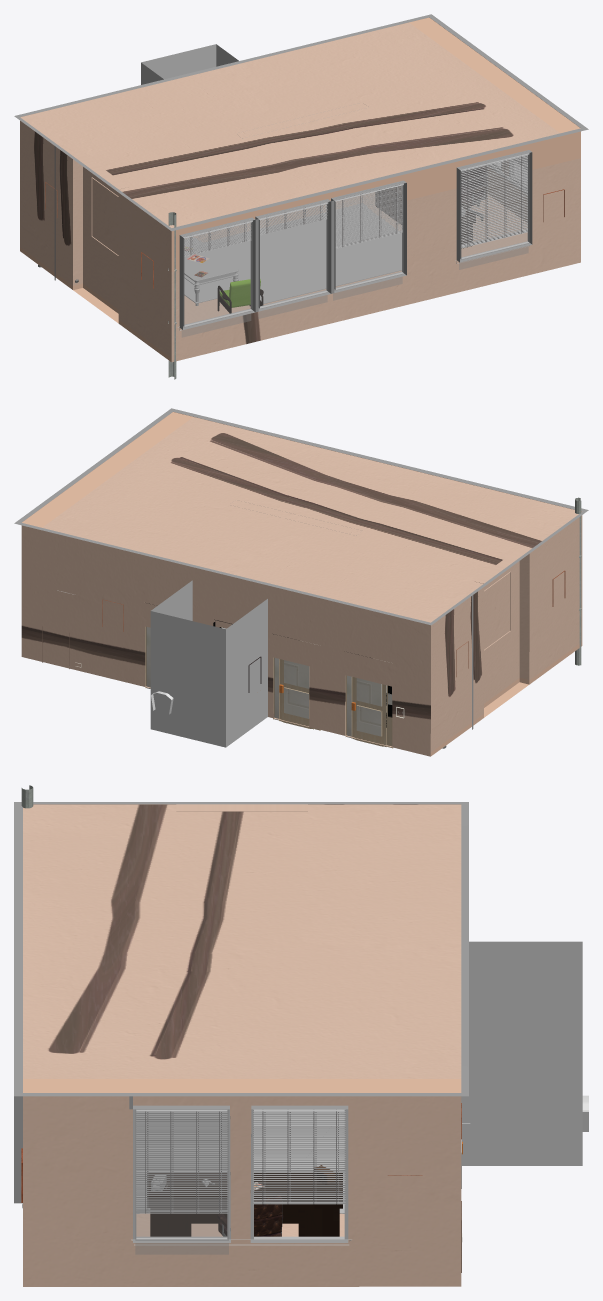
Rendered from Presidents_Room_Final.fbx.
3 renders of one model, top to bottom at view 1: azimuth 30°, elevation 25°; view 2: azimuth 150°, elevation 25°; view 3: azimuth 270°, elevation 25°, orthographic. The views are drawn at different scales.
Visible parts, largest first — view 1: roof, polySurface1, rug, pPlane6, pPlane7, pPlane13, pPlane5, pPlane14, pPlane4, walls, pPlane16, top (+9 smaller); view 2: polySurface1, roof, walls, pCube16 (×2), pipes; view 3: roof, polySurface1, walls, pPlane2, pPlane11, pPlane10, rug, desk, pPipe1, pPipe9, pCube9.
Boxes of the visible parts, bbox=[...] form: roof: bbox=[20, 17, 580, 227]; polySurface1: bbox=[14, 14, 588, 362]; rug: bbox=[205, 204, 401, 303]; pPlane6: bbox=[258, 204, 327, 318]; pPlane7: bbox=[182, 223, 250, 337]; pPlane13: bbox=[461, 151, 527, 248]; pPlane5: bbox=[333, 186, 402, 300]; pPlane14: bbox=[335, 182, 402, 248]; pPlane4: bbox=[459, 156, 528, 269]; walls: bbox=[141, 44, 238, 84]; pPlane16: bbox=[184, 219, 251, 256]; top: bbox=[184, 238, 238, 285]; polySurface1: bbox=[14, 408, 588, 756]; roof: bbox=[22, 412, 581, 622]; walls: bbox=[150, 580, 267, 747]; pCube16 (×2): bbox=[273, 634, 392, 748]; pipes: bbox=[575, 497, 581, 665]; roof: bbox=[23, 804, 461, 1092]; polySurface1: bbox=[14, 802, 468, 1286]; walls: bbox=[461, 941, 582, 1165]; pPlane2: bbox=[135, 1109, 228, 1254]; pPlane11: bbox=[136, 1109, 228, 1213]; pPlane10: bbox=[253, 1109, 345, 1204]; rug: bbox=[136, 1112, 344, 1213]; desk: bbox=[147, 1173, 342, 1236]; pPipe1: bbox=[250, 1109, 348, 1239]; pPipe9: bbox=[133, 1109, 230, 1239]; pCube9: bbox=[131, 1239, 351, 1245].
Size of the model in its own units: 14.21 by 5.35 by 11.73.
